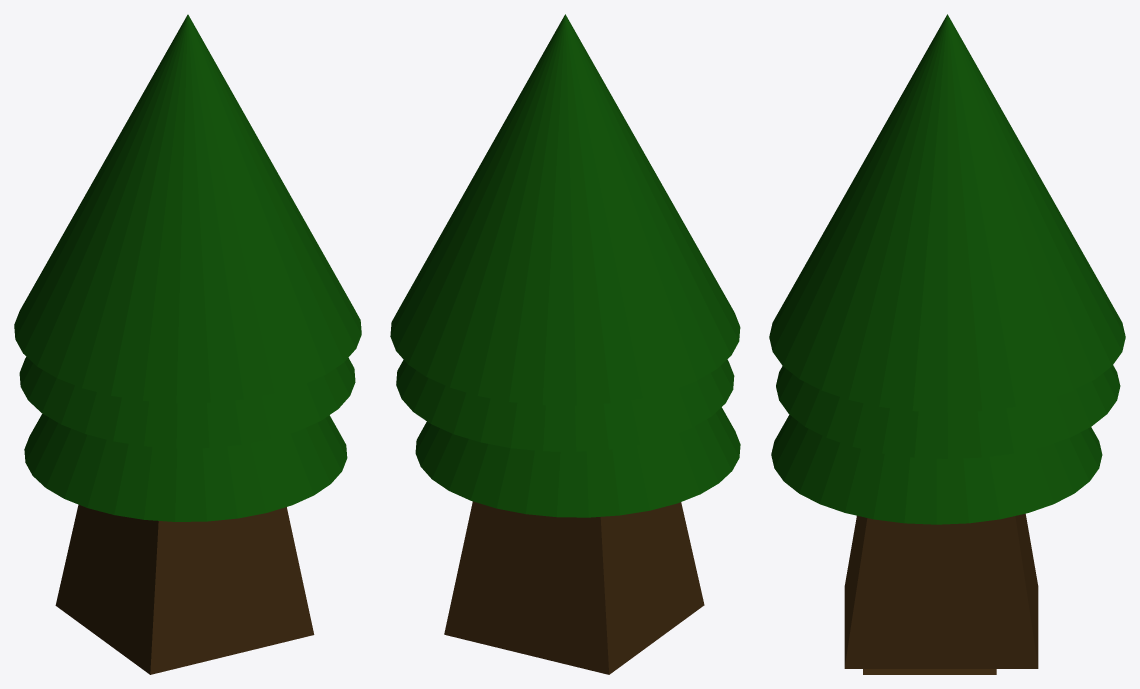
The model's file is pinewoodx.fbx.
The picture shows the model from 3 angles, left to right: view 1: azimuth 30°, elevation 25°; view 2: azimuth 150°, elevation 25°; view 3: azimuth 270°, elevation 25°; orthographic projection. The views are drawn at different scales.
Visible parts, largest first — view 1: Cube; view 2: Cube; view 3: Cube.
Boxes of the visible parts, x1,y1,x2,y2 form: Cube: [14, 14, 361, 674]; Cube: [390, 14, 740, 674]; Cube: [769, 14, 1125, 674].
Bounding box in the file's own units: 534 × 1032 × 534.
